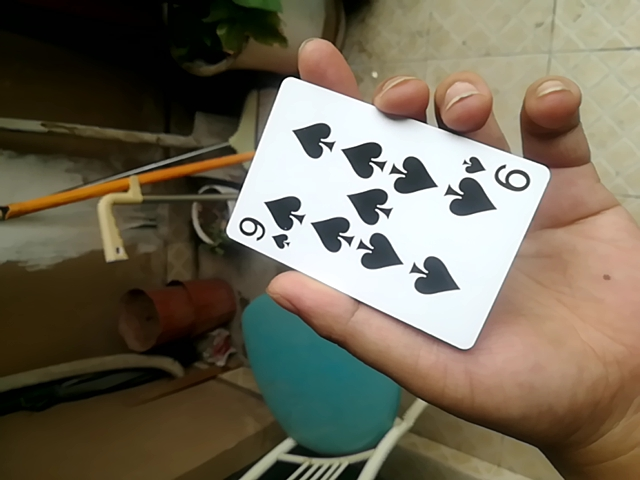ht 9: (221, 74, 549, 356)
